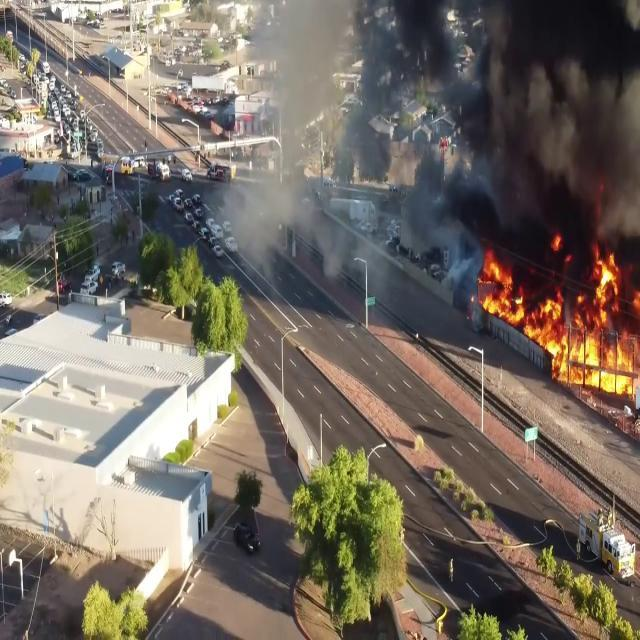Fire: (471, 245, 640, 395)
Smoke: (219, 1, 640, 284)
